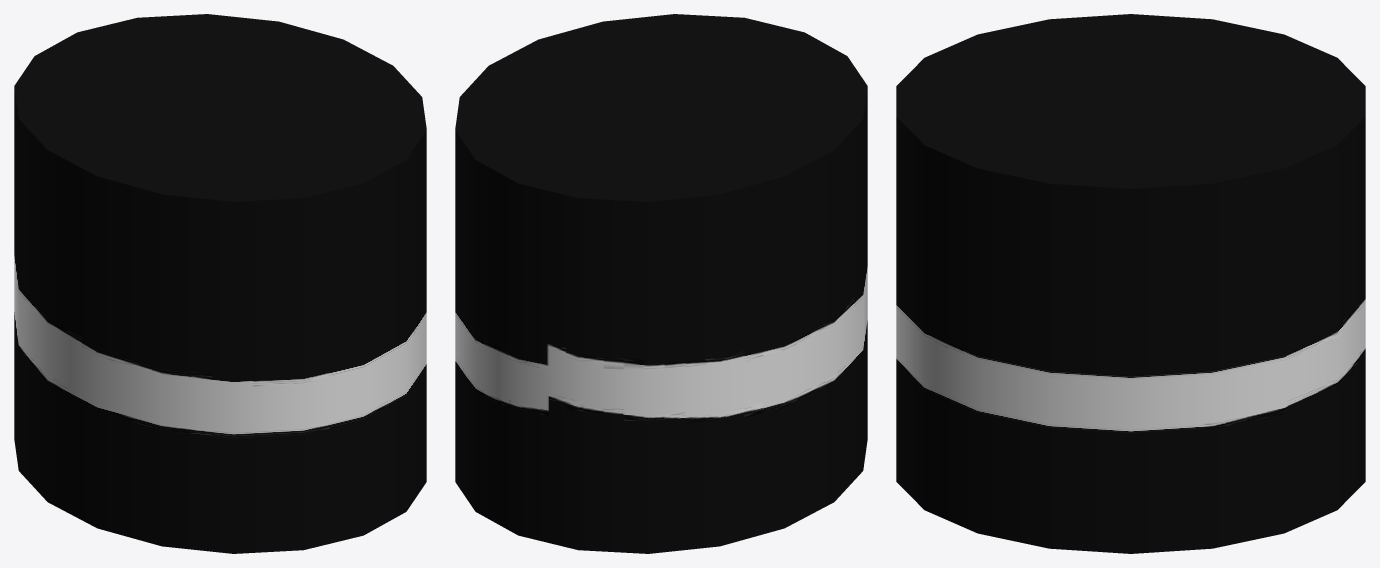
Rendered from Mini_black.FBX.
The picture shows the model from 3 angles, left to right: view 1: azimuth 30°, elevation 25°; view 2: azimuth 150°, elevation 25°; view 3: azimuth 270°, elevation 25°; orthographic projection. The views are drawn at different scales.
Parts seen in each view (by area): view 1: Cylinder115; view 2: Cylinder115; view 3: Cylinder115.
Part boxes in pixels (box(x1,y1,x2,y2)): Cylinder115: box(14, 14, 426, 553); Cylinder115: box(455, 14, 867, 553); Cylinder115: box(896, 14, 1365, 553).
Bounding box in the file's own units: 4.89 × 5.54 × 4.76.
1 material, 1 textured.
